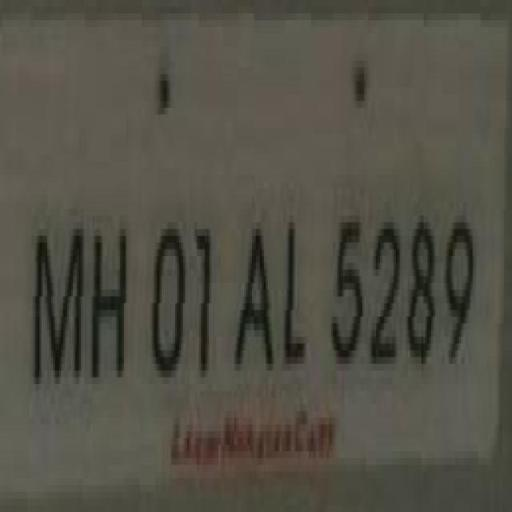number plate: (0, 27, 485, 458)
